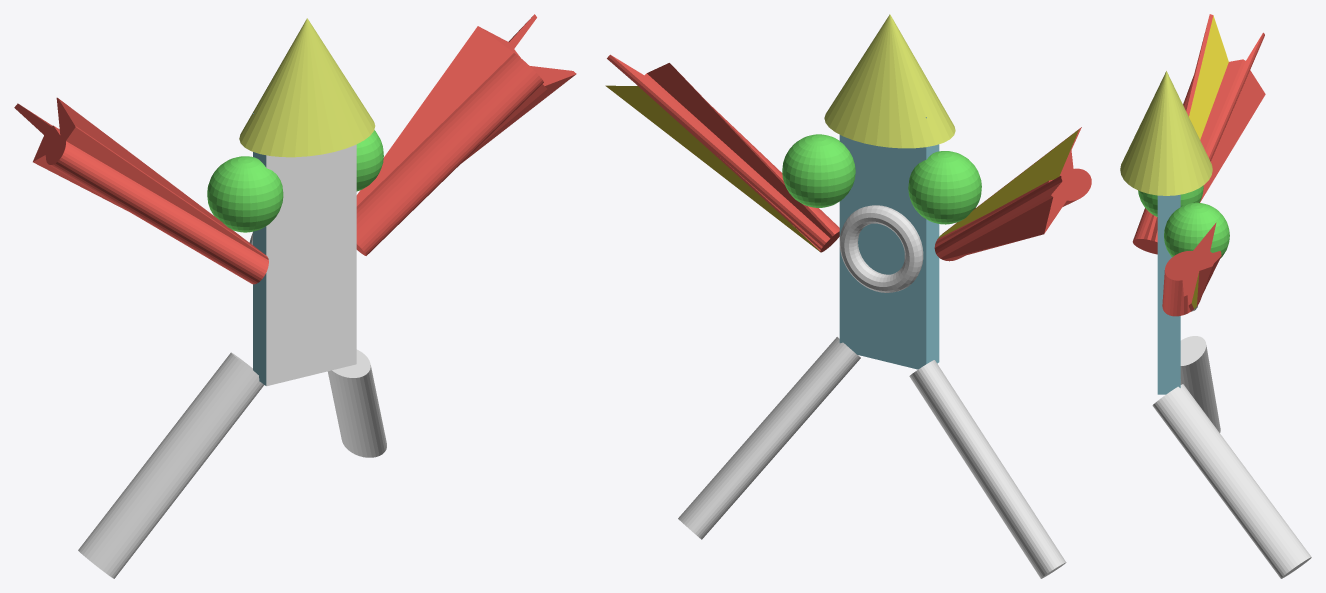
File: lliusaver.gltf
3 views of the same model, side by side, from view 1: azimuth 30°, elevation 25°; view 2: azimuth 150°, elevation 25°; view 3: azimuth 270°, elevation 25° (orthographic). The views are drawn at different scales.
Visible parts, largest first — view 1: Cube, Cylinder.004, Cylinder.002, Cylinder, Cone.001, Sphere.001, Cylinder.001, Sphere; view 2: Cube, Cylinder.004, Cone.001, Cylinder.002, Cylinder.001, Cylinder, Sphere, Sphere.001, Torus; view 3: Cylinder.001, Cylinder.002, Cone.001, Cube, Cylinder.004, Sphere, Cylinder, Sphere.001.
Part boxes in pixels (<box>): Cube: <box>253,113,356,386</box>; Cylinder.004: <box>356,14,576,255</box>; Cylinder.002: <box>14,97,268,284</box>; Cylinder: <box>78,352,263,578</box>; Cone.001: <box>239,18,375,157</box>; Sphere.001: <box>207,156,283,232</box>; Cylinder.001: <box>327,349,386,457</box>; Sphere: <box>356,130,383,191</box>; Cube: <box>839,117,939,369</box>; Cylinder.004: <box>605,54,839,252</box>; Cone.001: <box>824,14,955,148</box>; Cylinder.002: <box>934,127,1091,261</box>; Cylinder.001: <box>678,337,860,539</box>; Cylinder: <box>909,360,1066,578</box>; Sphere: <box>782,134,855,207</box>; Sphere.001: <box>908,151,981,224</box>; Torus: <box>839,205,923,292</box>; Cylinder.001: <box>1152,384,1311,578</box>; Cylinder.002: <box>1132,14,1265,254</box>; Cone.001: <box>1120,71,1212,195</box>; Cube: <box>1157,194,1180,394</box>; Cylinder.004: <box>1162,222,1221,316</box>; Sphere: <box>1164,202,1229,258</box>; Cylinder: <box>1180,336,1220,432</box>; Sphere.001: <box>1138,185,1203,216</box>.
Bounding box in the file's own units: 15.65 × 15.21 × 5.8.
